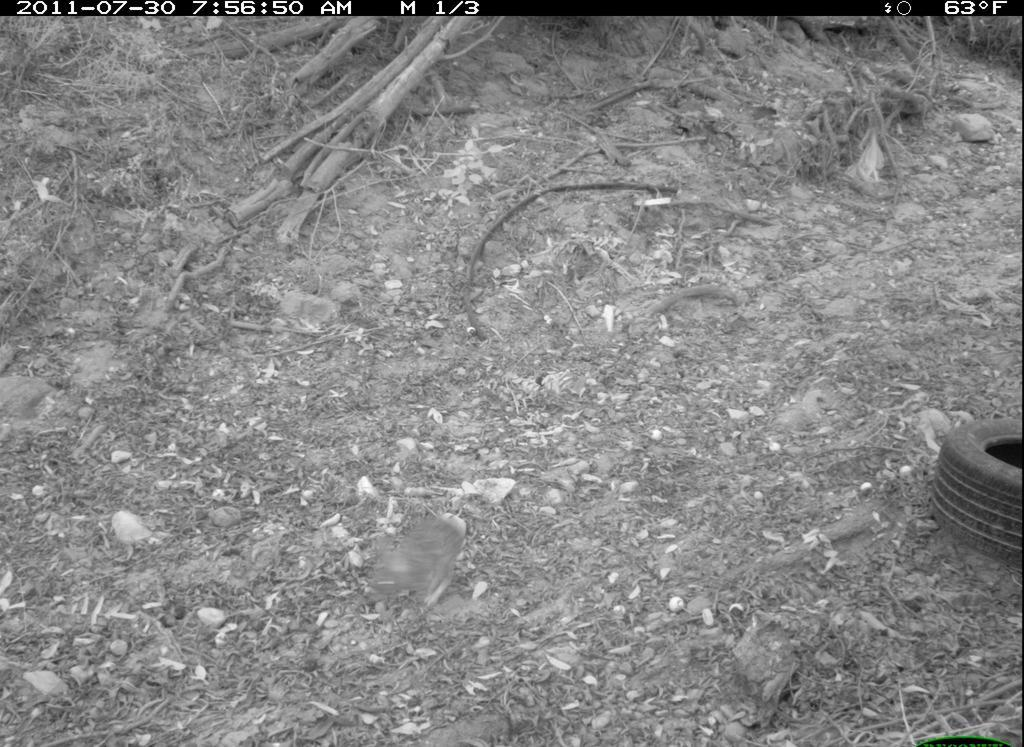rabbit: (352, 503, 481, 623)
